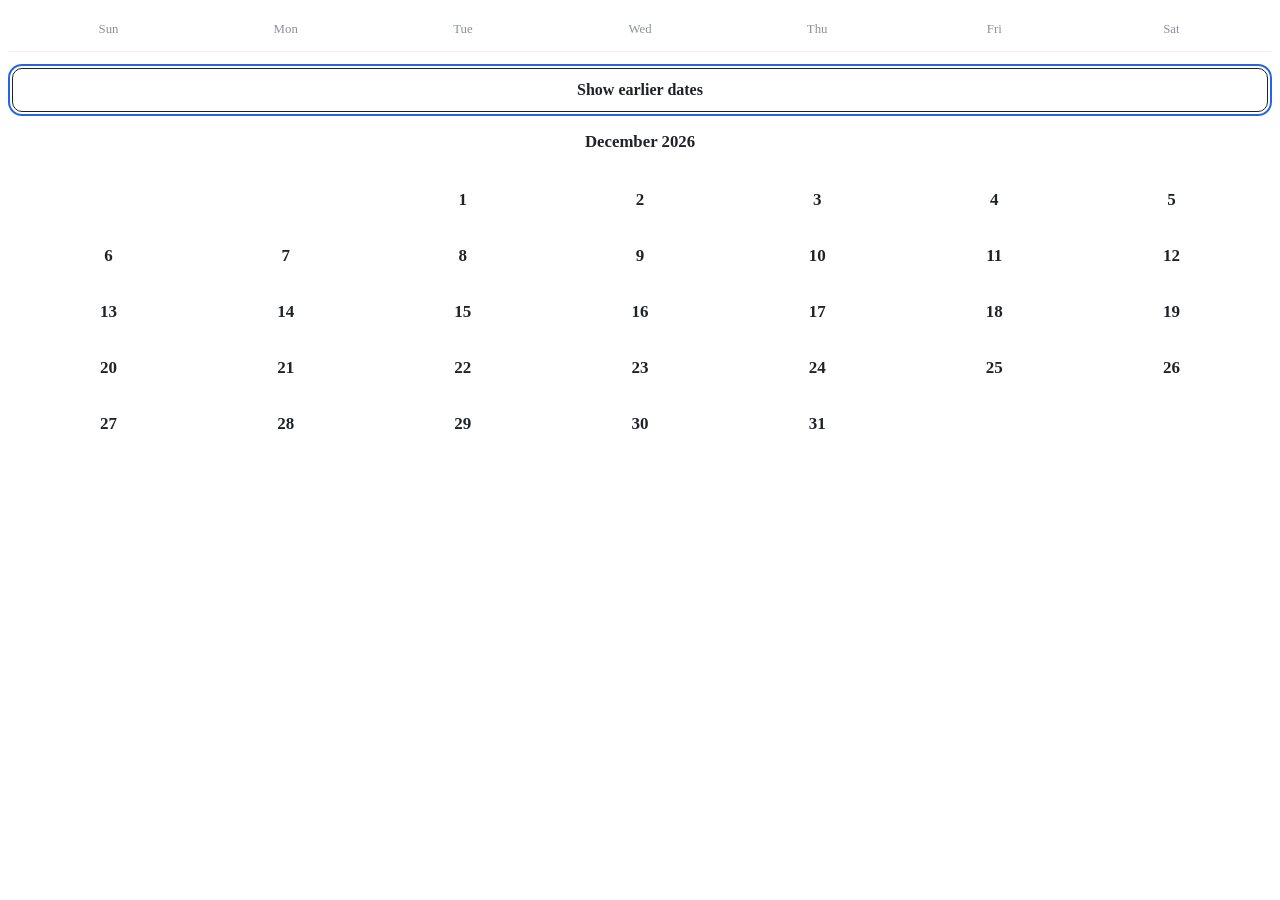
Test: focus during month loading › moves focus into the grid when the load-more control disappears at the boundary
The image size is (1280, 900).
Click the button "Show earlier dates". click: (640, 90)
box: [12,68,1268,112]
(page scrolled)
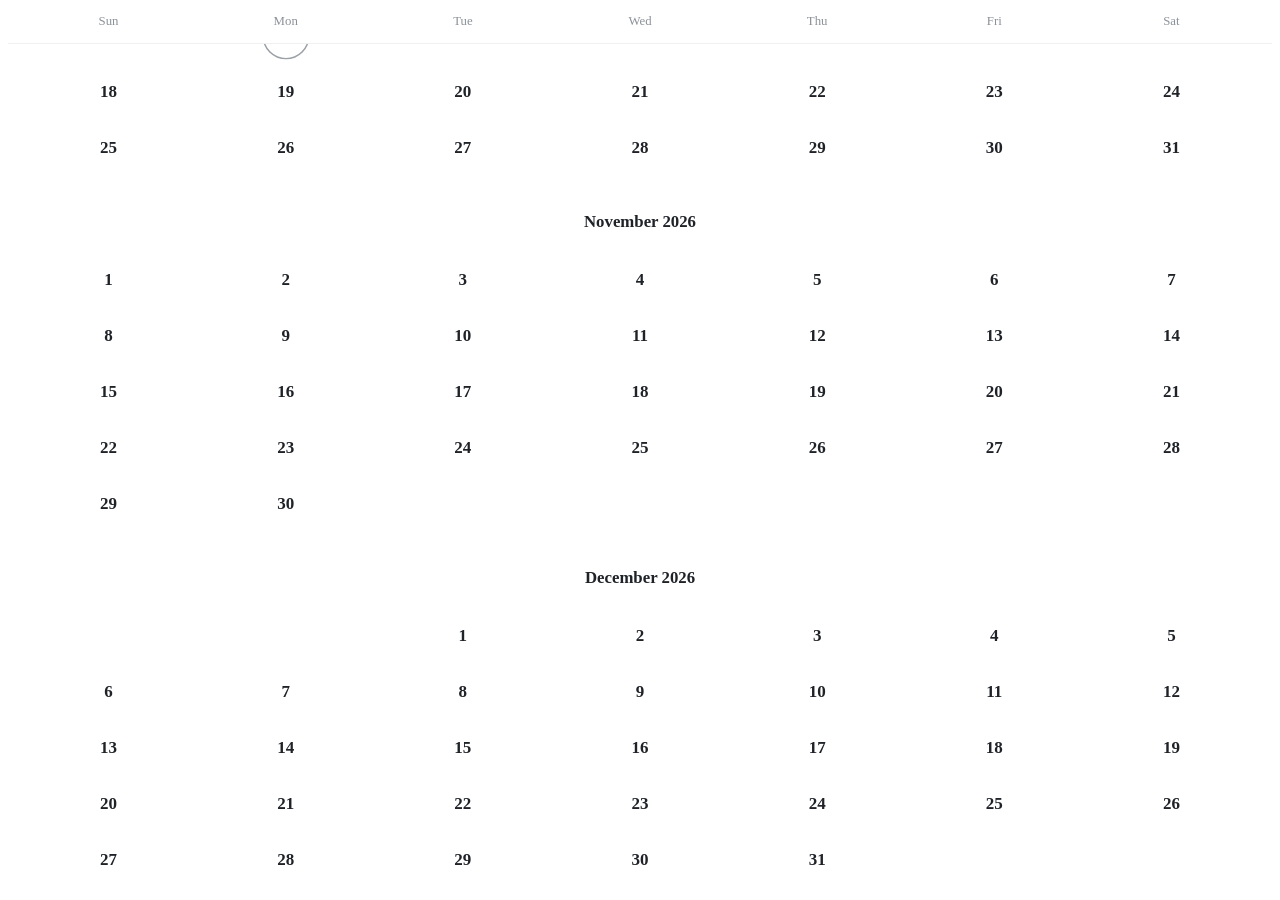
Expected: the button "Show earlier dates" is gone
